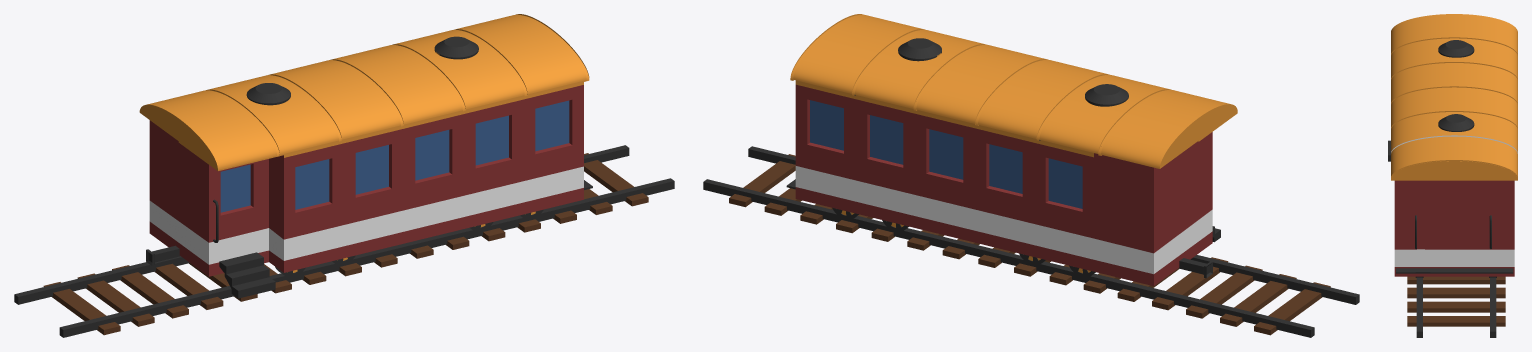
3 views of the same model, side by side, from view 1: azimuth 30°, elevation 25°; view 2: azimuth 150°, elevation 25°; view 3: azimuth 270°, elevation 25° (orthographic). The views are drawn at different scales.
Visible parts, largest first — view 1: Box014; view 2: Box014; view 3: Box014.
Boxes of the visible parts, x1,y1,x2,y2 form: Box014: (14, 14, 674, 337); Box014: (703, 14, 1359, 337); Box014: (1388, 14, 1517, 337).
Size of the model in its own units: 573 by 159 by 130.
